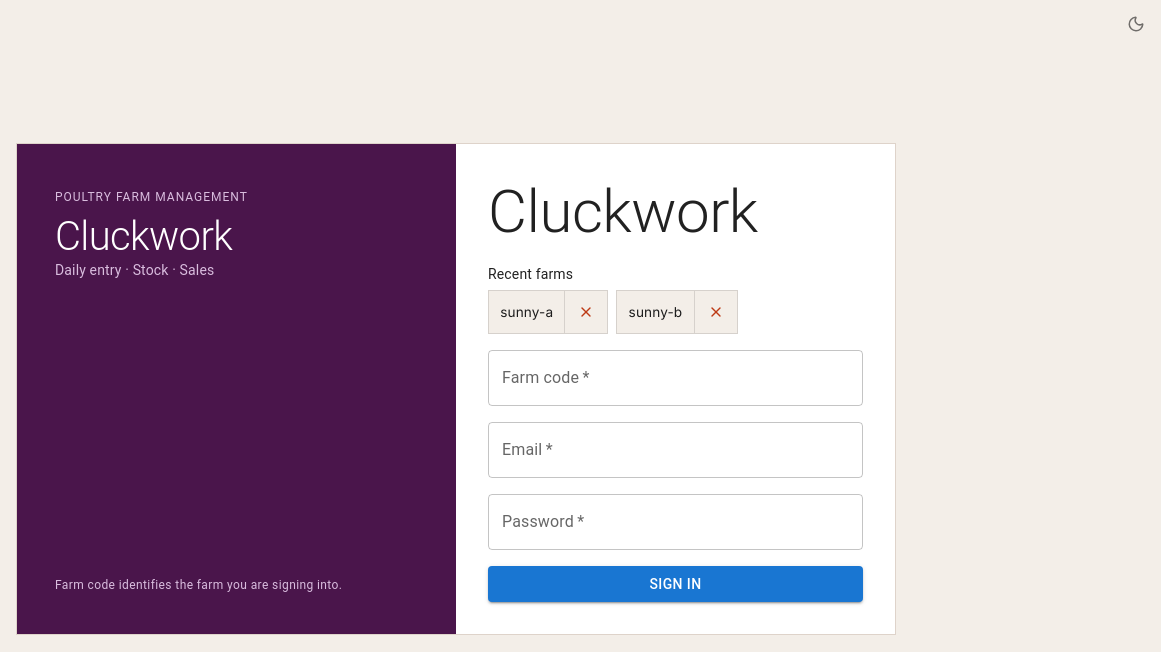
Test: Login — farm-code prefill and picker › with several remembered codes leaves the field empty, shows one button per code, and a click fills the field
Expected: the button "Sign in" is shown, 488,566 -> 863,602
Expected: the field labelled "Farm code *" is empty, 488,350 -> 863,406
Click the button "sunny-b" at (655, 312), box 616,290 -> 694,334
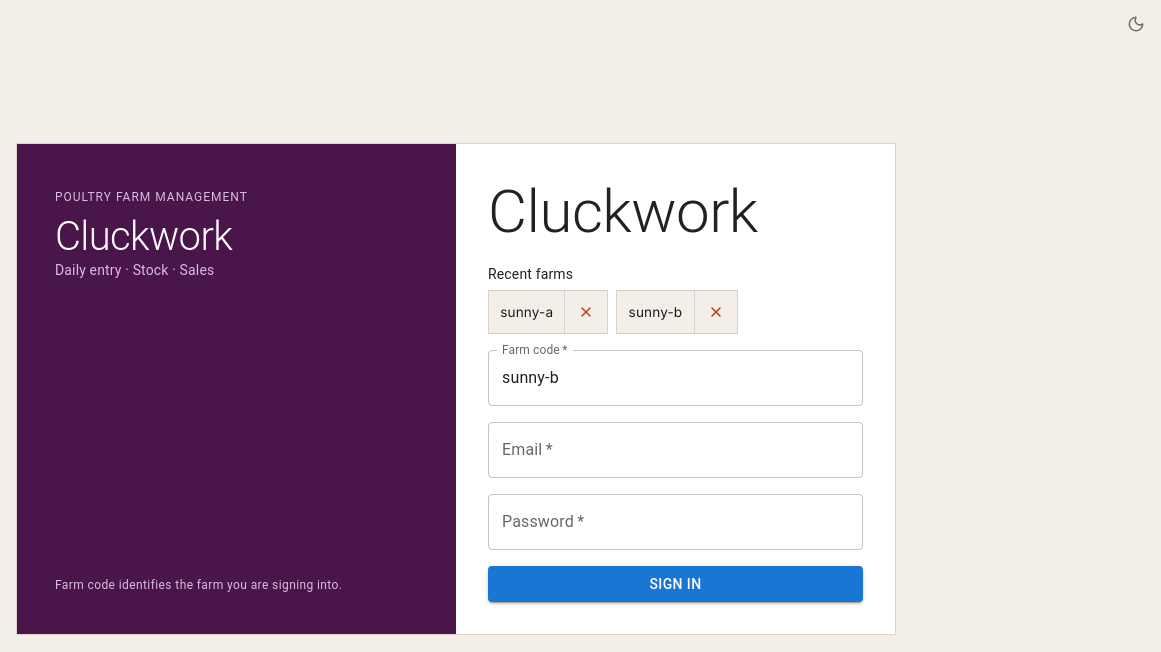
Expected: the field labelled "Farm code *" holds "sunny-b", 488,350 -> 863,406
